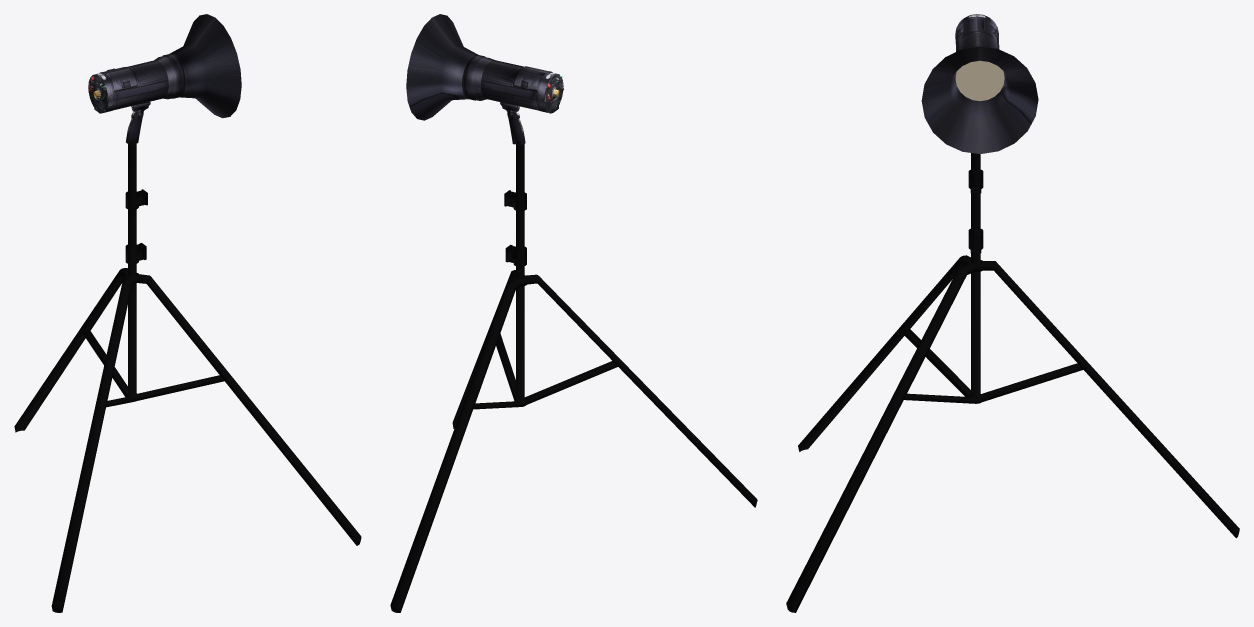
The model's file is justflash.glb.
The picture shows the model from 3 angles, left to right: view 1: azimuth 30°, elevation 25°; view 2: azimuth 150°, elevation 25°; view 3: azimuth 270°, elevation 25°; orthographic projection. The views are drawn at different scales.
Visible parts, largest first — view 1: Cylinder.003; view 2: Cylinder.003; view 3: Cylinder.003.
Part boxes in pixels (<box>): Cylinder.003: <box>14,14,361,612</box>; Cylinder.003: <box>390,14,757,612</box>; Cylinder.003: <box>786,14,1239,612</box>.
Size of the model in its own units: 18.39 by 27.7 by 21.36.
4 materials, 2 textured.
